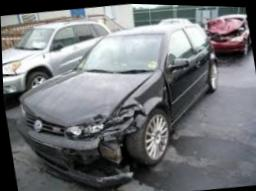Bumper: (60, 132, 136, 186)
Fender: (102, 75, 169, 139)
